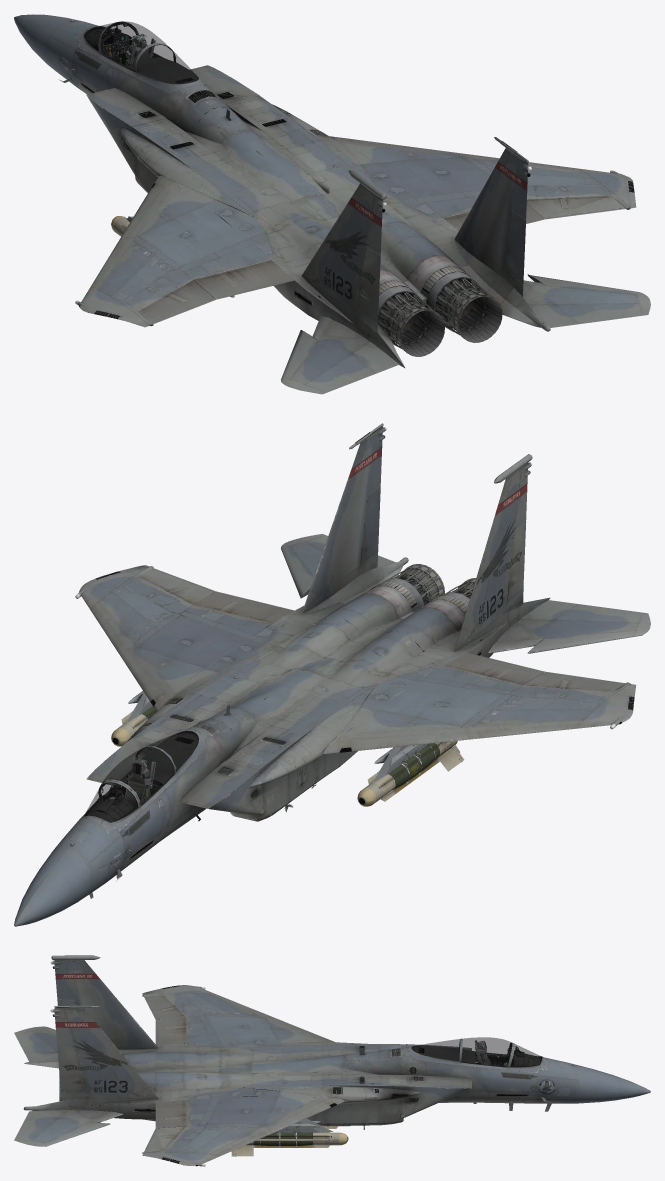
The picture shows the model from 3 angles, top to bottom: view 1: azimuth 30°, elevation 25°; view 2: azimuth 150°, elevation 25°; view 3: azimuth 270°, elevation 25°; orthographic projection. The views are drawn at different scales.
Visible parts, largest first — view 1: Object_14, Object_6, Object_44, Object_13; view 2: Object_14, Object_6, Object_8, Object_44, Object_11, Object_13; view 3: Object_14, Object_6, Object_8, Object_44, Object_11.
Boxes of the visible parts, x1,y1,x2,y2 form: Object_14: (14, 14, 650, 394); Object_6: (84, 21, 198, 83); Object_44: (84, 21, 205, 86); Object_13: (124, 33, 155, 66); Object_14: (14, 423, 650, 926); Object_6: (84, 731, 198, 822); Object_8: (111, 706, 464, 806); Object_44: (84, 700, 199, 822); Object_11: (126, 691, 428, 782); Object_13: (125, 757, 155, 810); Object_14: (14, 955, 650, 1166); Object_6: (412, 1037, 541, 1066); Object_8: (231, 1125, 350, 1156); Object_44: (330, 1039, 542, 1106); Object_11: (274, 1118, 333, 1135).
Size of the model in its own units: 1301 by 512 by 1940.
Materials: 12 (6 with a texture image).
